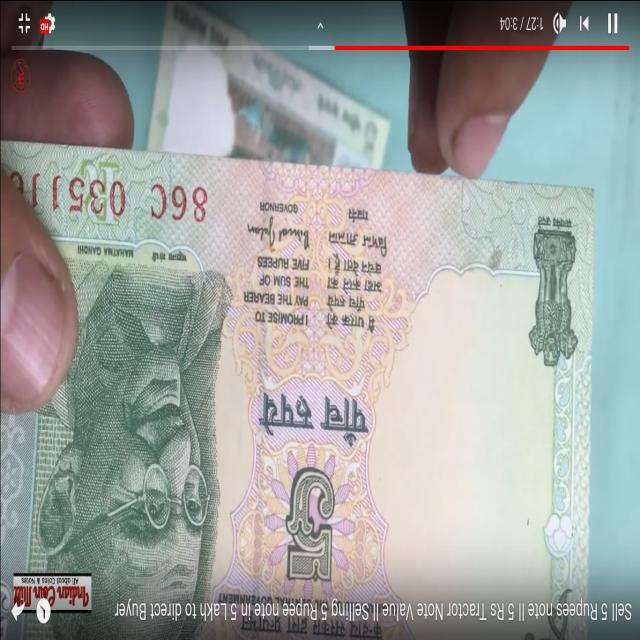5IndianRupees: (4, 152, 591, 601)
